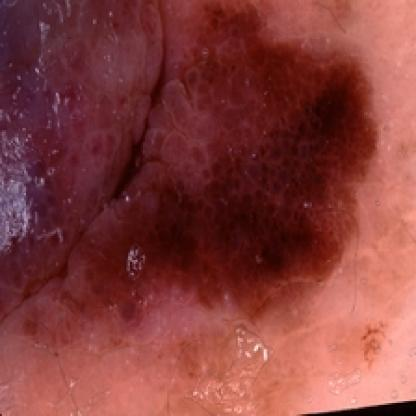Skin_Cancer-Malignant: (0, 0, 379, 326)
